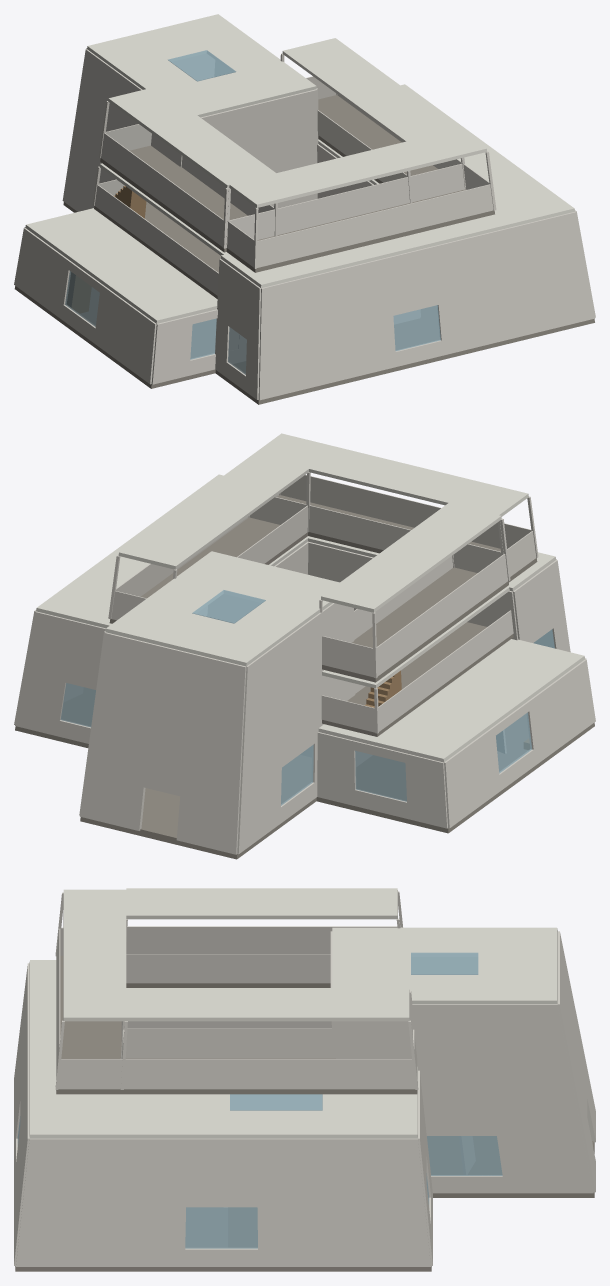
3 renders of one model, top to bottom at view 1: azimuth 30°, elevation 25°; view 2: azimuth 150°, elevation 25°; view 3: azimuth 270°, elevation 25°, orthographic. The views are drawn at different scales.
Parts seen in each view (by area): view 1: A__WAL__G__WALL__006, A__WAL__G__WALL__007, A__CLG__R__ROOF__000, A__CLG__U_G__ROOF__001, A__CLG__U_G__ROOF__000, A__WAL__U_G__PARAPET__006, A__CLG__U_R2__ROOF__000, A__WAL__F__WALL__003, A__CLG__F__ROOF__001, A__WAL__U_G__PARAPET__004, A__CLG__F__ROOF__000, A__WAL__F__FC_WALL__000 (+41 smaller); view 2: A__CLG__R__ROOF__000, A__WAL__F__EF_WALL__000, A__WAL__F__EF_WALL__001, A__CLG__U_G__ROOF__000, A__CLG__U_G__ROOF__001, A__WAL__F__WALL__003, A__CLG__U_R2__ROOF__000, A__CLG__F__ROOF__001, A__CLG__F__ROOF__000, A__WAL__F__EF_LINTEL__000, A__WAL__G__WALL__003, A__WAL__U_G__PARAPET__006 (+47 smaller); view 3: A__WAL__G__WALL__004, A__WAL__G__WALL__005, A__WAL__F__WALL__000, A__CLG__U_G__ROOF__000, A__WAL__F__LINTEL__000, A__WAL__U_G__PARAPET__001, A__CLG__U_R2__ROOF__000, A__CLG__G__ROOF__001, A__CLG__U_G__ROOF__001, A__WAL__U_G__PARAPET__003, A__CLG__F__ROOF__000, A__WAL__U_R2__PARAPET__001 (+34 smaller).
Part boxes in pixels (<box>): A__WAL__G__WALL__006: <box>433,212,594,355</box>; A__WAL__G__WALL__007: <box>258,257,396,400</box>; A__CLG__R__ROOF__000: <box>25,208,217,323</box>; A__CLG__U_G__ROOF__001: <box>229,128,486,207</box>; A__CLG__U_G__ROOF__000: <box>282,38,458,142</box>; A__WAL__U_G__PARAPET__006: <box>257,184,493,267</box>; A__CLG__U_R2__ROOF__000: <box>108,86,275,188</box>; A__WAL__F__WALL__003: <box>62,49,121,211</box>; A__CLG__F__ROOF__001: <box>173,14,316,100</box>; A__WAL__U_G__PARAPET__004: <box>232,164,464,234</box>; A__CLG__F__ROOF__000: <box>87,35,231,117</box>; A__WAL__F__FC_WALL__000: <box>266,89,318,208</box>; A__CLG__R__ROOF__000: <box>318,639,584,762</box>; A__WAL__F__EF_WALL__000: <box>176,653,246,854</box>; A__WAL__F__EF_WALL__001: <box>80,632,158,830</box>; A__CLG__U_G__ROOF__000: <box>118,455,308,569</box>; A__CLG__U_G__ROOF__001: <box>252,433,528,516</box>; A__WAL__F__WALL__003: <box>237,639,285,854</box>; A__CLG__U_R2__ROOF__000: <box>321,503,501,612</box>; A__CLG__F__ROOF__001: <box>105,551,260,643</box>; A__CLG__F__ROOF__000: <box>197,573,339,666</box>; A__WAL__F__EF_LINTEL__000: <box>143,645,192,796</box>; A__WAL__G__WALL__003: <box>15,611,75,735</box>; A__WAL__U_G__PARAPET__006: <box>280,474,531,548</box>; A__WAL__G__WALL__004: <box>256,1138,430,1266</box>; A__WAL__G__WALL__005: <box>16,1138,187,1266</box>; A__WAL__F__WALL__000: <box>478,1004,593,1193</box>; A__CLG__U_G__ROOF__000: <box>126,988,409,1021</box>; A__WAL__F__LINTEL__000: <box>412,1004,496,1135</box>; A__WAL__U_G__PARAPET__001: <box>124,1059,414,1089</box>; A__CLG__U_R2__ROOF__000: <box>126,888,397,919</box>; A__CLG__G__ROOF__001: <box>121,1110,417,1138</box>; A__CLG__U_G__ROOF__001: <box>63,889,126,1021</box>; A__WAL__U_G__PARAPET__003: <box>125,1028,335,1058</box>; A__CLG__F__ROOF__000: <box>332,927,557,956</box>; A__WAL__U_R2__PARAPET__001: <box>126,954,330,983</box>.
Size of the model in its own units: 25.45 by 10.85 by 27.87.
